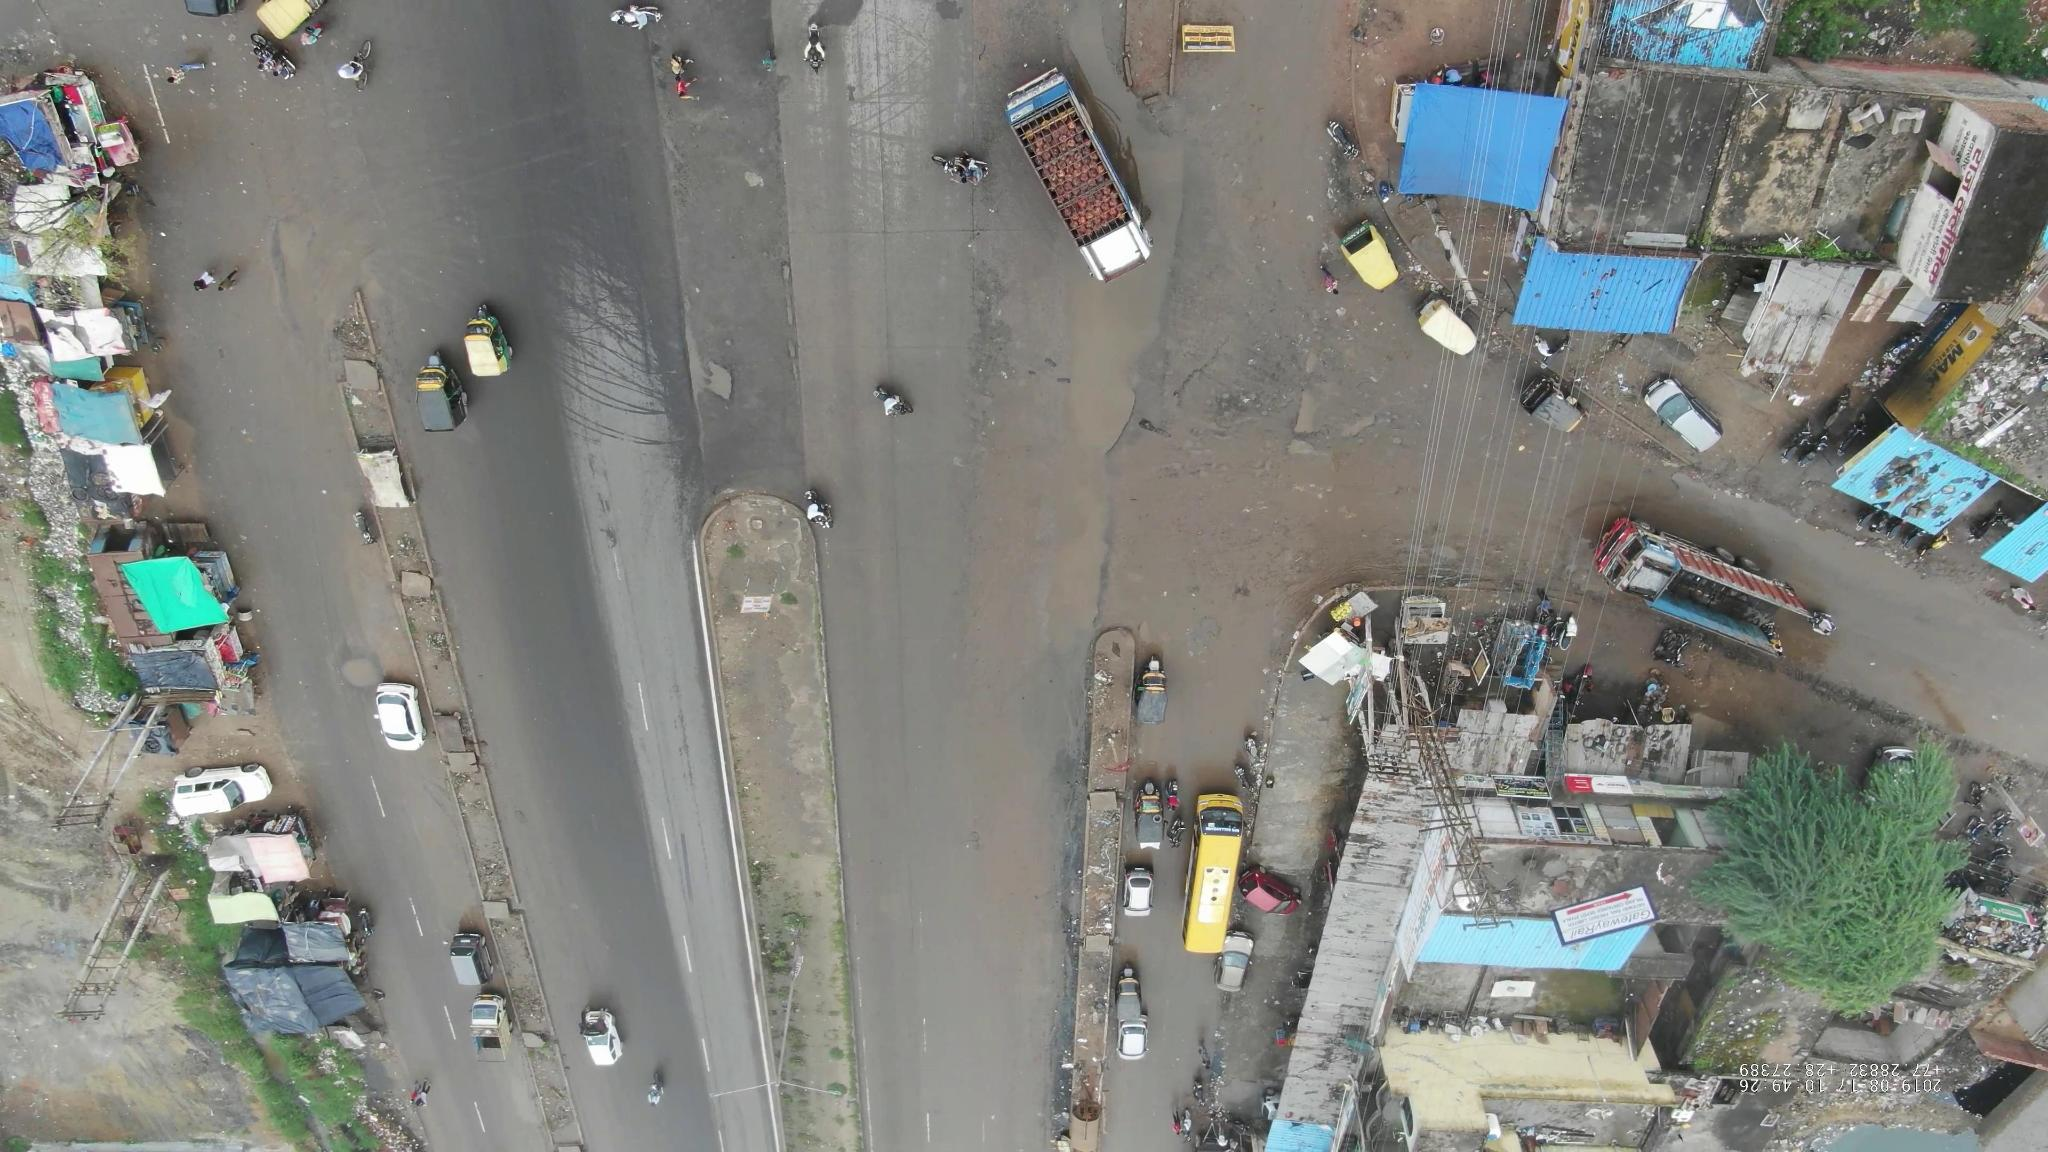Potholes: (1125, 316, 1332, 467), (273, 201, 314, 364), (333, 647, 390, 703)
